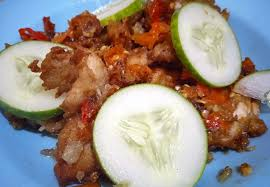ayam_geprek: (30, 12, 245, 175)
